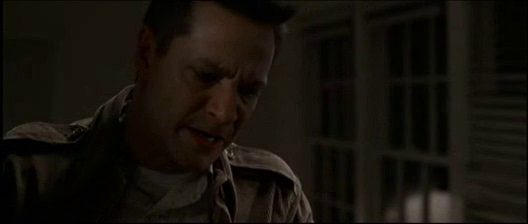cu: (1, 1, 528, 224)
face: (154, 31, 276, 174)
person: (1, 1, 314, 224)
